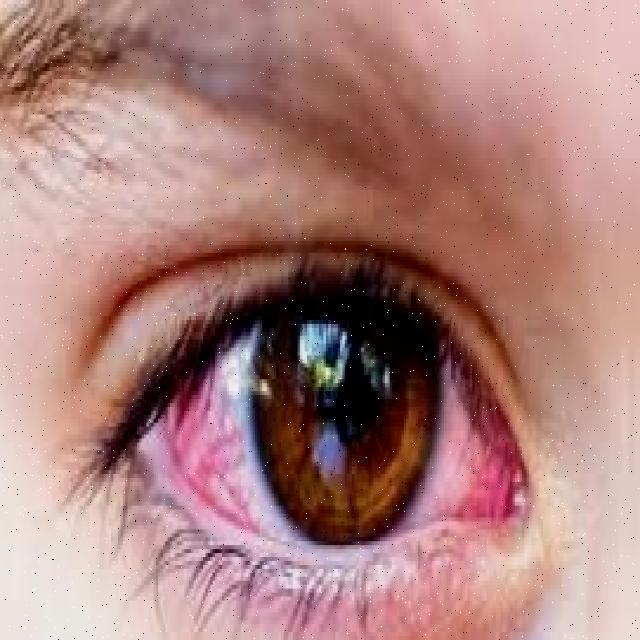Conjunctivitis: (85, 281, 530, 558)
